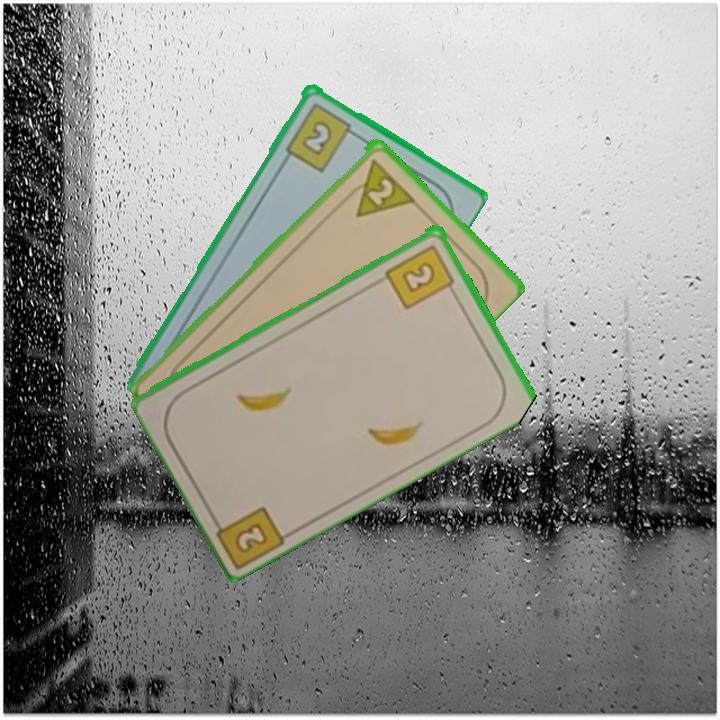2b: (281, 99, 361, 174), (382, 240, 459, 312), (207, 502, 289, 569)
2p: (340, 153, 417, 220)
